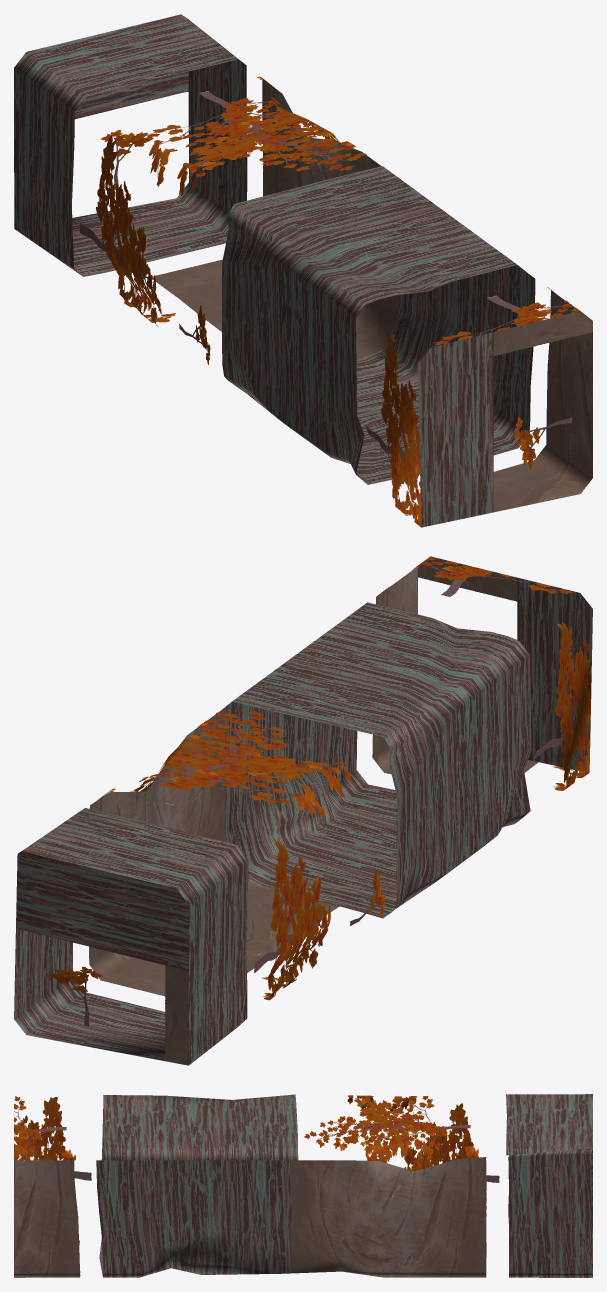
3 renders of one model, top to bottom at view 1: azimuth 30°, elevation 25°; view 2: azimuth 150°, elevation 25°; view 3: azimuth 270°, elevation 25°, orthographic. The views are drawn at different scales.
Parts seen in each view (by area): view 1: SM_WoodStack_02_LOD0; view 2: SM_WoodStack_02_LOD0; view 3: SM_WoodStack_02_LOD0.
Part boxes in pixels (x1,y1,x2,y2): SM_WoodStack_02_LOD0: (14, 14, 592, 527); SM_WoodStack_02_LOD0: (14, 556, 592, 1065); SM_WoodStack_02_LOD0: (14, 1094, 592, 1277).
Size of the model in its own units: 1 by 1 by 4.
